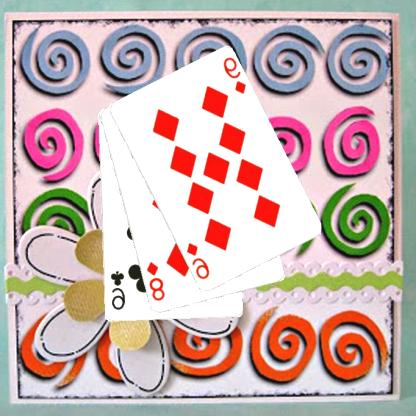8D: (145, 258, 168, 302)
9C: (109, 268, 128, 312)
9D: (185, 240, 213, 282), (222, 54, 249, 96)
